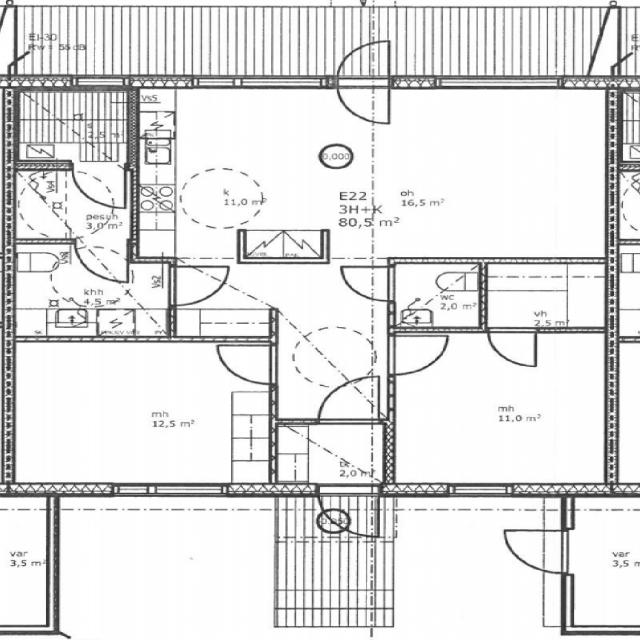door: (316, 482, 376, 540), (502, 530, 574, 574), (318, 374, 379, 424), (337, 74, 391, 130), (337, 35, 391, 90), (74, 238, 128, 284), (73, 160, 124, 207), (168, 266, 228, 305), (387, 336, 448, 374), (339, 266, 395, 302), (489, 327, 536, 367)
